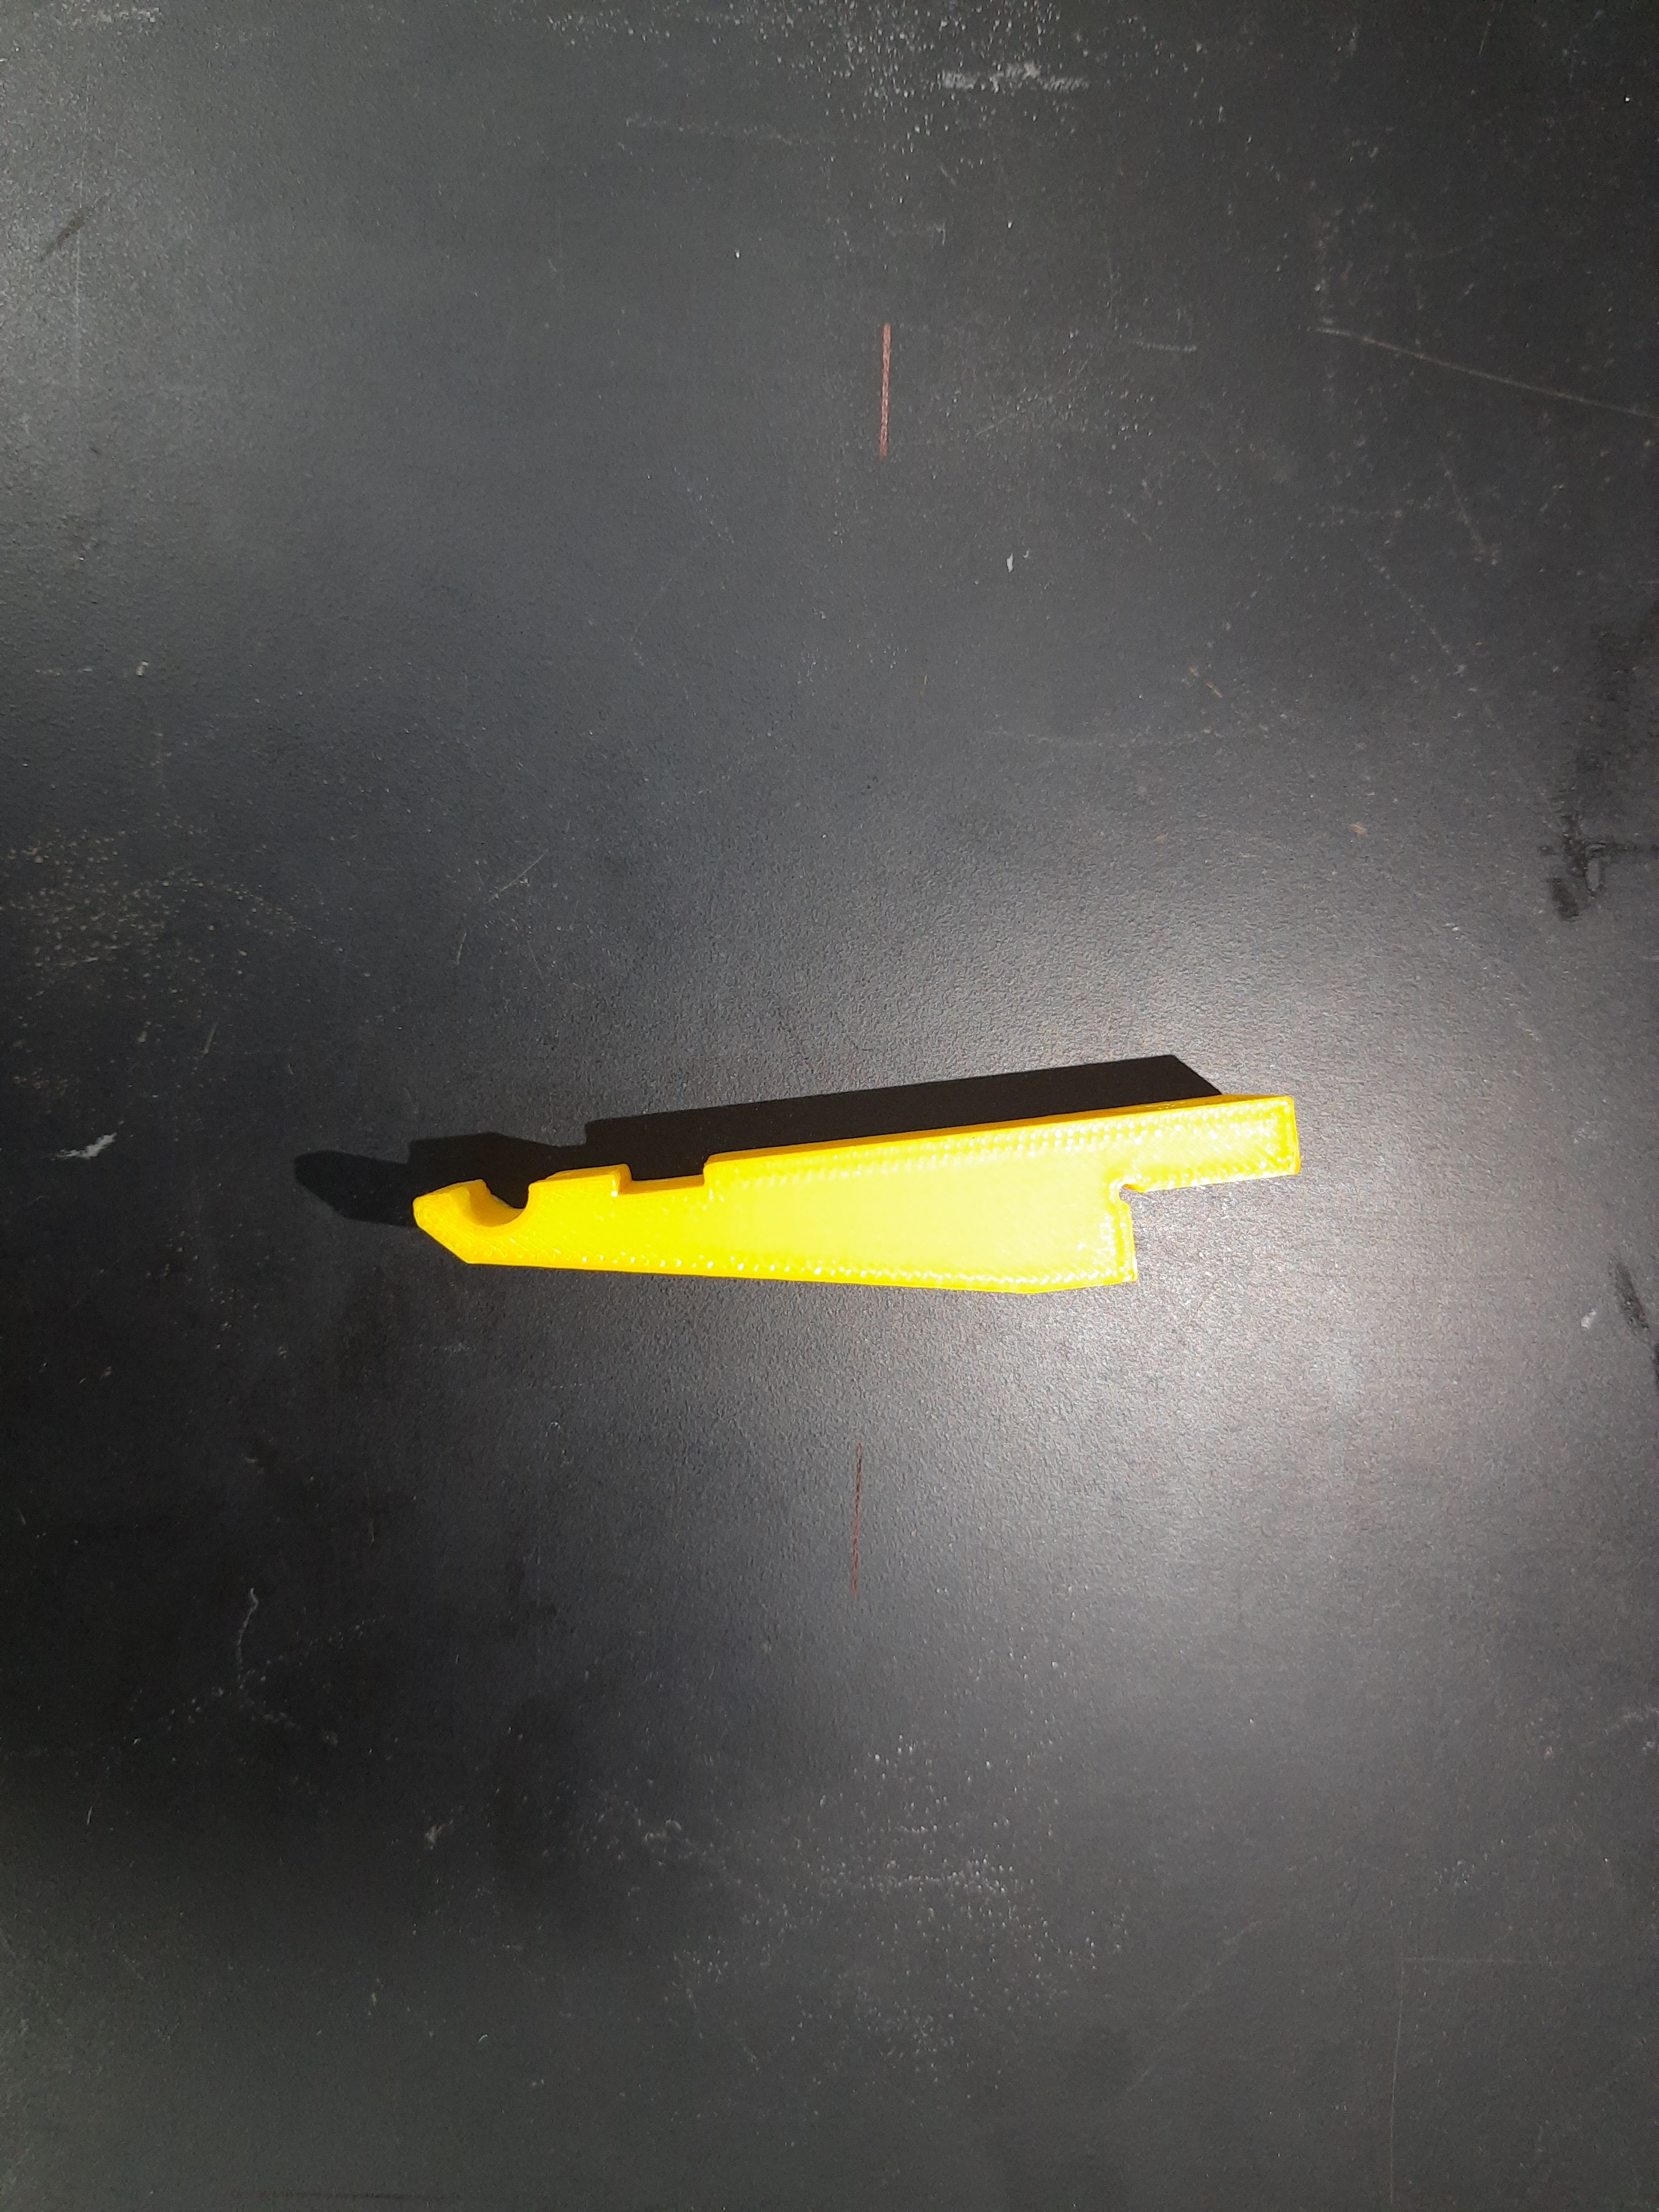YELLOW: (410, 1087, 1316, 1367)
